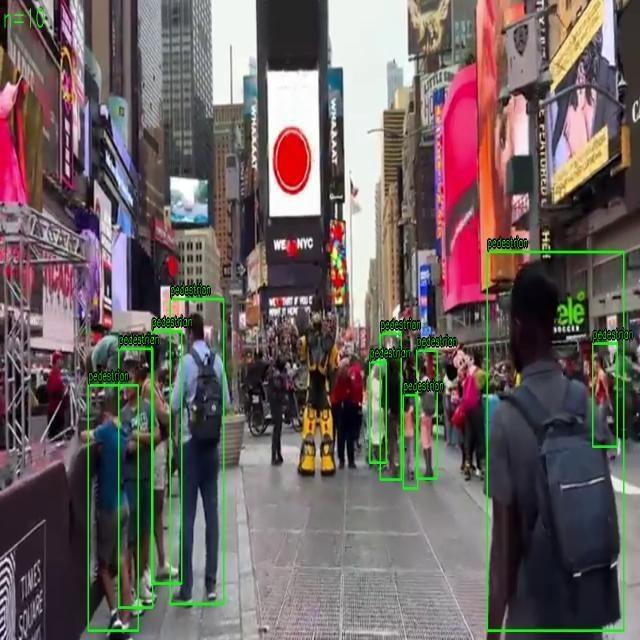person: (487, 252, 624, 632), (170, 298, 224, 604), (88, 385, 138, 631), (118, 348, 154, 608), (152, 330, 182, 584), (380, 333, 402, 480), (417, 350, 438, 479), (592, 343, 618, 447), (369, 362, 386, 464), (403, 395, 418, 489)
